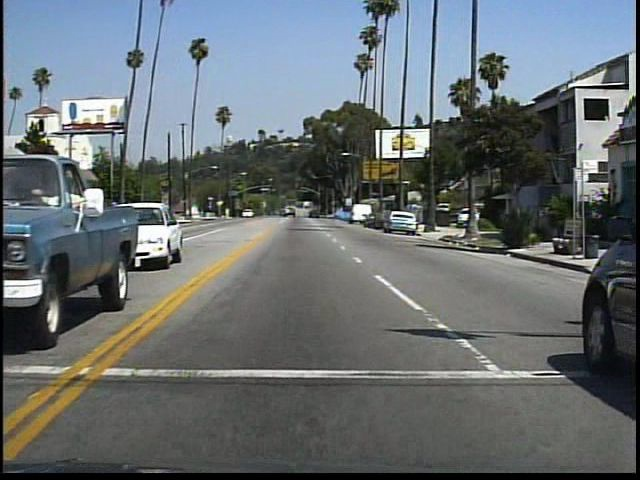person: (512, 198, 536, 251)
